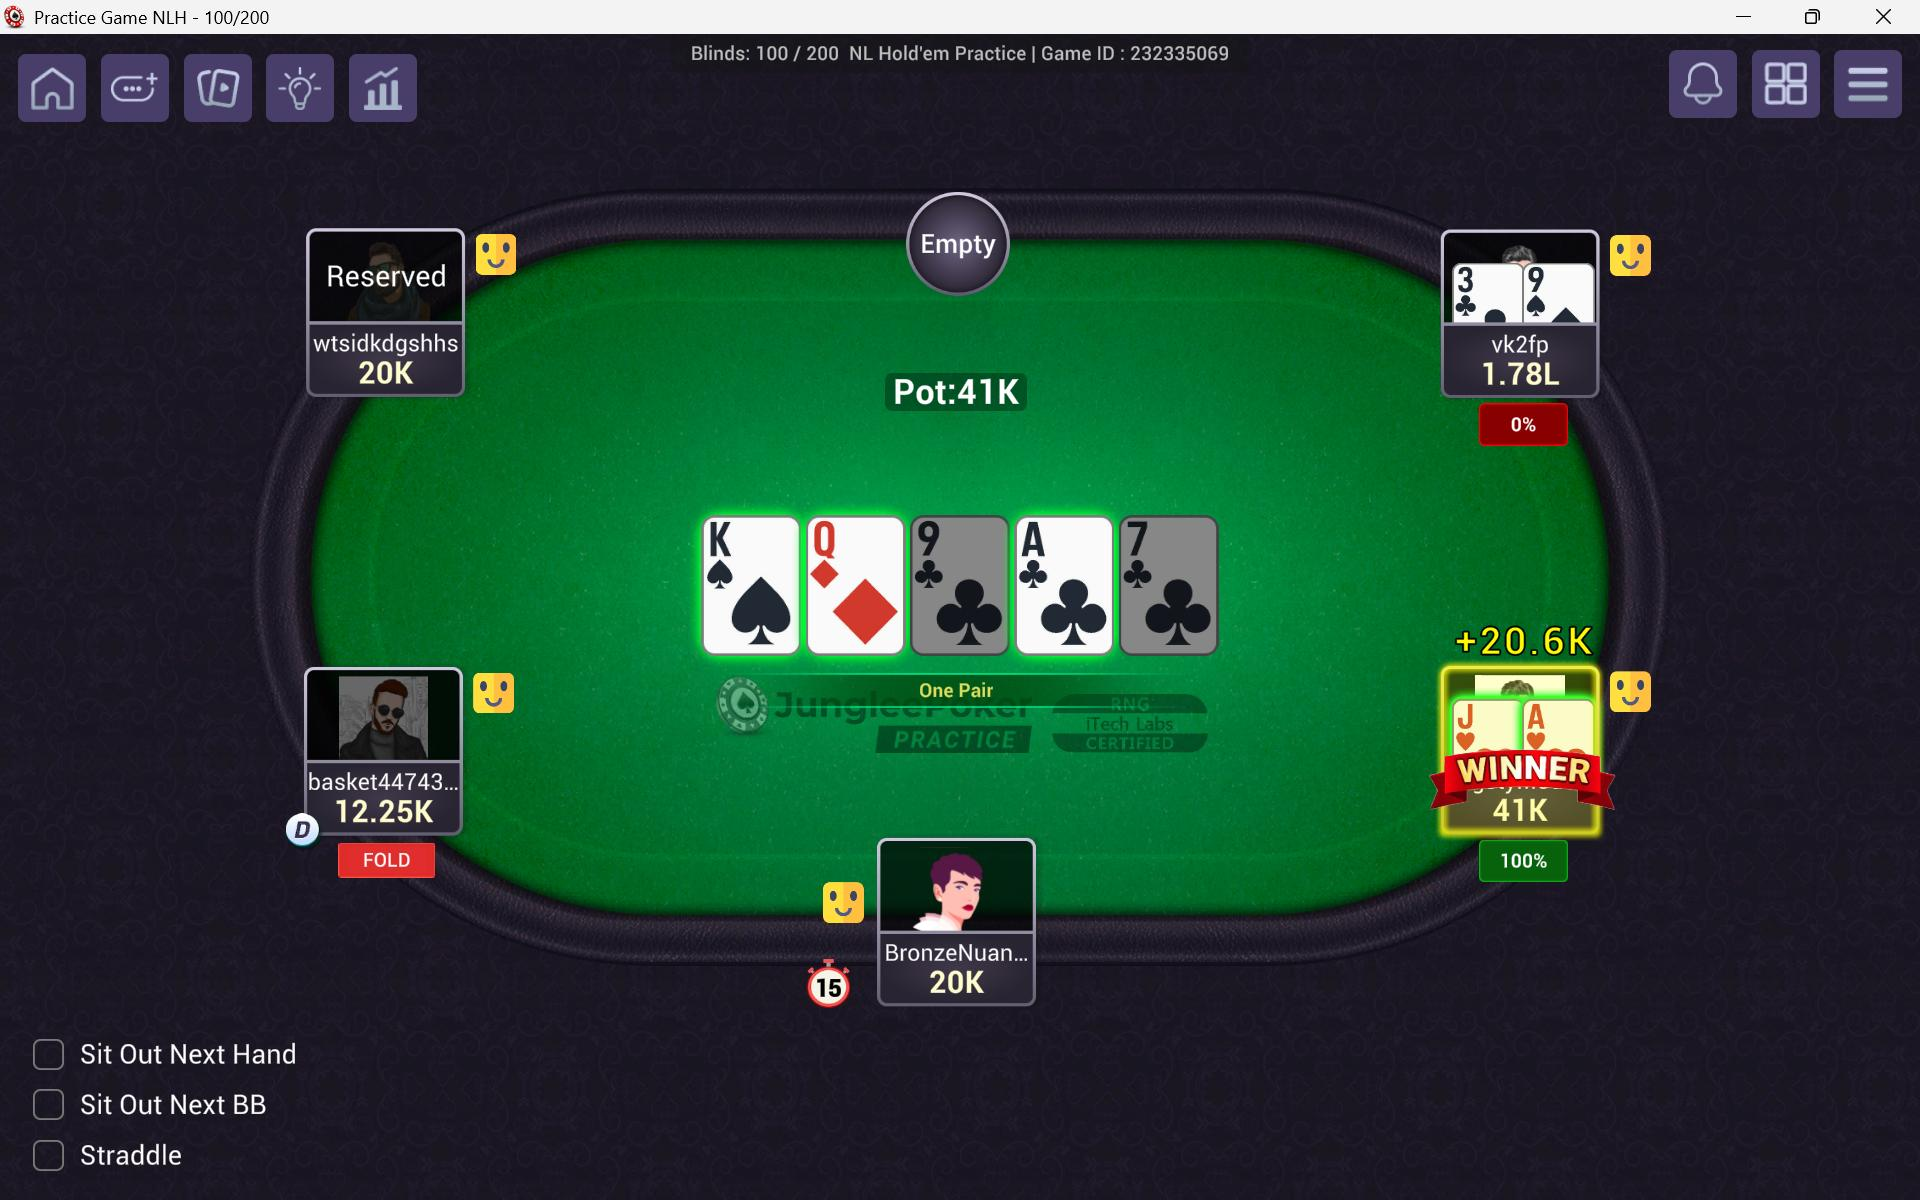flop1_rank: (699, 517, 796, 567)
flop1_suite_spades: (727, 565, 806, 650)
flop2_rank: (807, 516, 903, 564)
flop2_suite_diamond: (832, 563, 898, 650)
flop3_rank: (908, 513, 1006, 563)
flop3_suite_club: (928, 563, 1008, 654)
game_id: (1027, 33, 1252, 75)
my_stack: (878, 954, 1035, 1001)
river_rank: (1125, 516, 1212, 565)
river_suite_club: (1143, 565, 1214, 653)
total_pot: (890, 366, 1030, 412)
turn_rank: (1017, 516, 1113, 564)
turn_suite_club: (1038, 563, 1116, 650)
villian1_name: (305, 753, 458, 800)
villian1_stack: (315, 798, 456, 832)
villian2_name: (307, 314, 460, 364)
villian2_stack: (307, 351, 459, 398)
villian4_name: (1440, 326, 1599, 361)
villian4_stack: (1444, 355, 1598, 388)
villian5_name: (1447, 759, 1598, 798)
villian5_stack: (1450, 778, 1594, 838)
winner: (1443, 655, 1606, 846)
